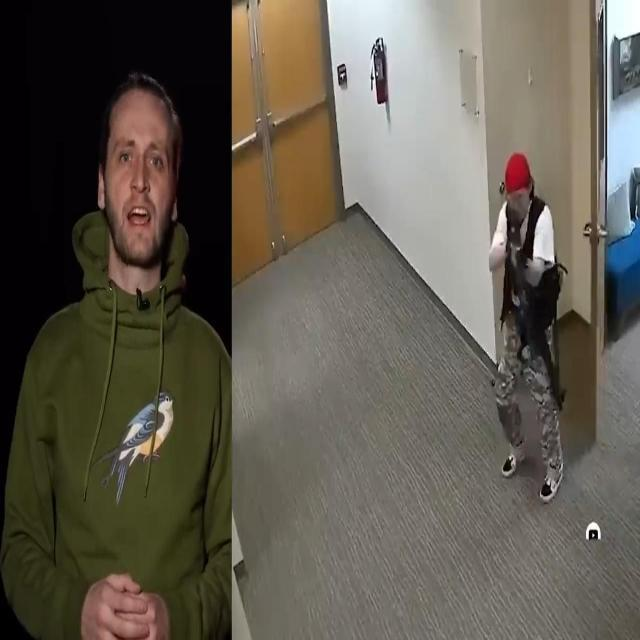pistol: (512, 246, 566, 408)
